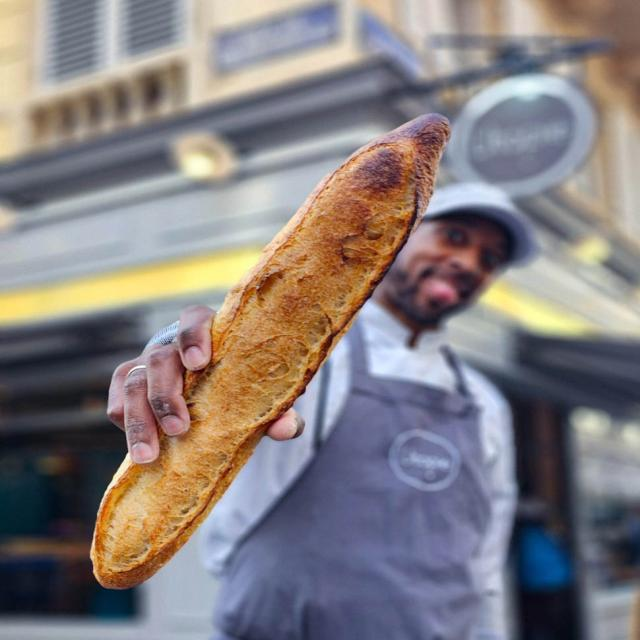Baguette: (90, 119, 449, 588)
